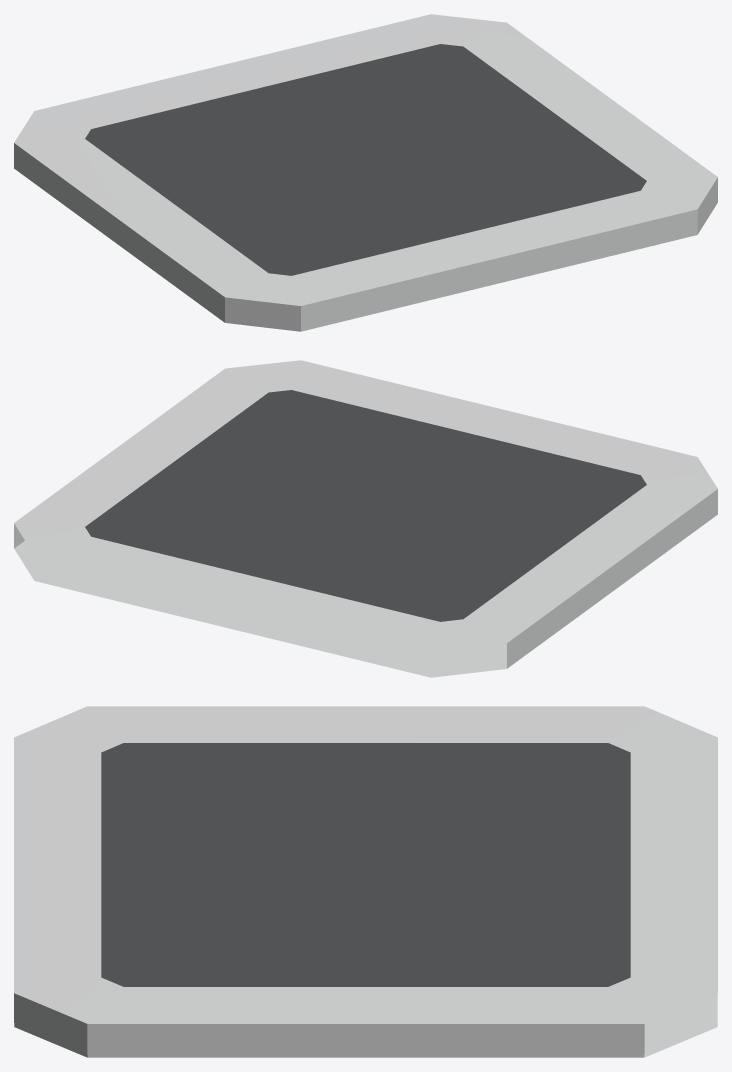
Rendered from Chair_008.fbx.
The picture shows the model from 3 angles, top to bottom: view 1: azimuth 30°, elevation 25°; view 2: azimuth 150°, elevation 25°; view 3: azimuth 270°, elevation 25°; orthographic projection. The views are drawn at different scales.
Visible parts, largest first — view 1: Chair_008; view 2: Chair_008; view 3: Chair_008.
Part boxes in pixels (x1,y1,x2,y2): Chair_008: (14,14,717,331); Chair_008: (14,360,717,677); Chair_008: (14,706,717,1057).
Size of the model in its own units: 56.15 by 52.6 by 2.83.
